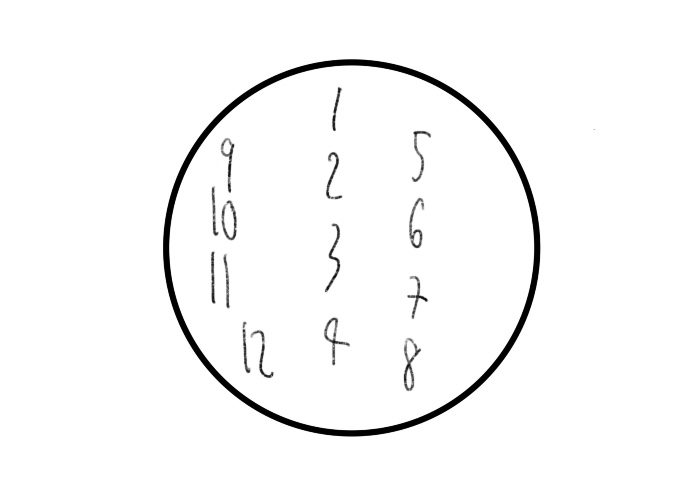eight: (399, 337, 422, 393)
eleven: (206, 248, 234, 307)
five: (411, 125, 434, 185)
four: (325, 310, 349, 366)
nine: (218, 134, 239, 194)
one: (327, 83, 343, 135)
seven: (404, 268, 426, 322)
six: (406, 196, 429, 251)
ten: (210, 184, 240, 243)
three: (325, 214, 342, 295)
twelve: (238, 322, 274, 380)
two: (325, 147, 344, 202)
